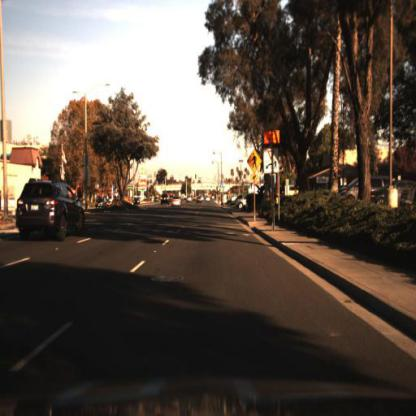car: (16, 180, 87, 241), (335, 174, 399, 205), (170, 193, 181, 209), (172, 194, 183, 210), (107, 195, 117, 212), (132, 197, 144, 209), (160, 192, 169, 205)
